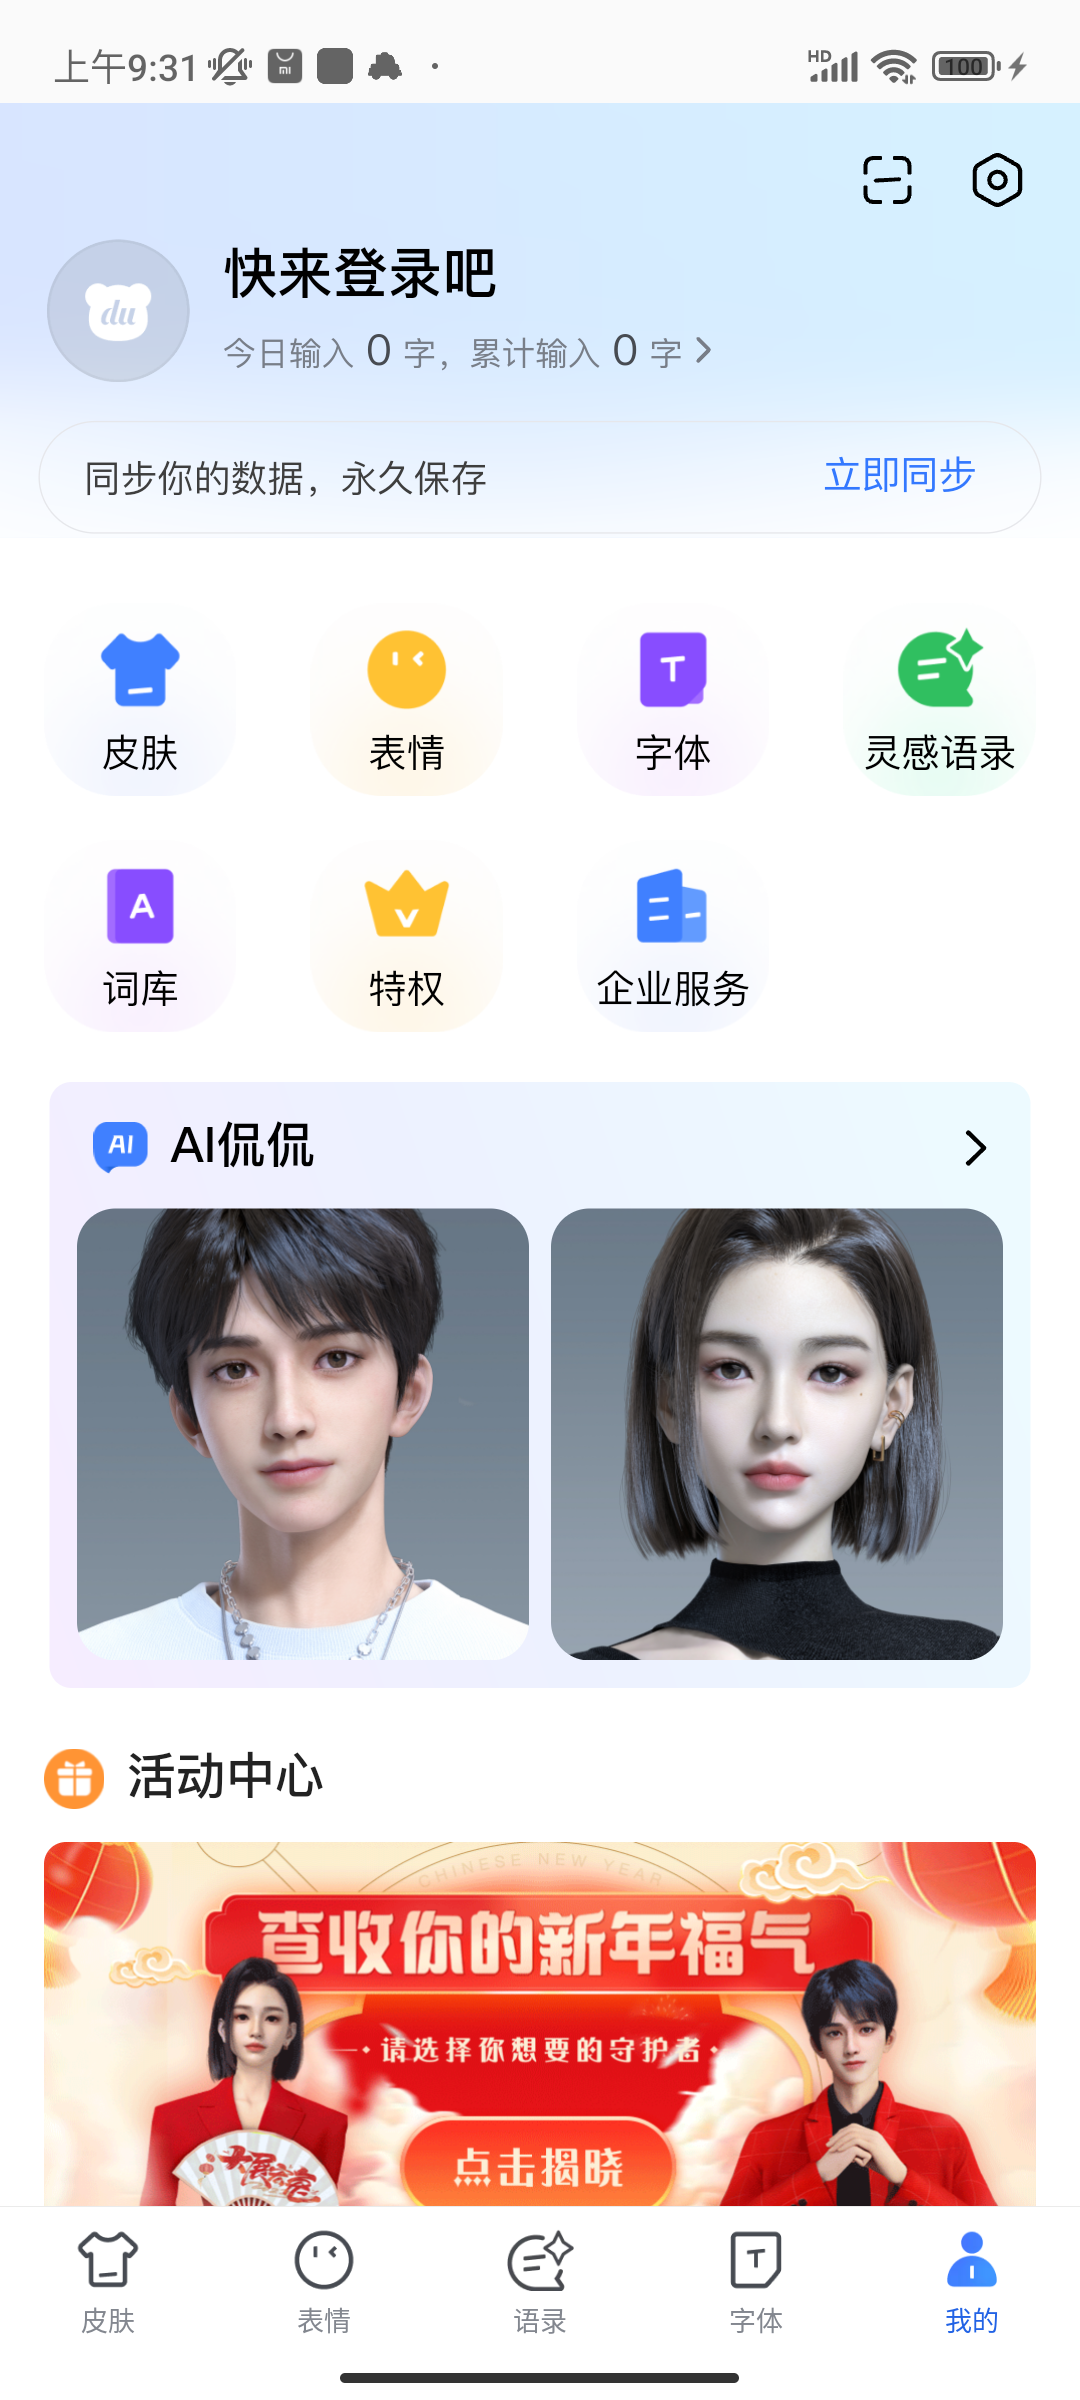ui_group: (40, 1840, 1036, 2209), (38, 421, 1043, 542)
